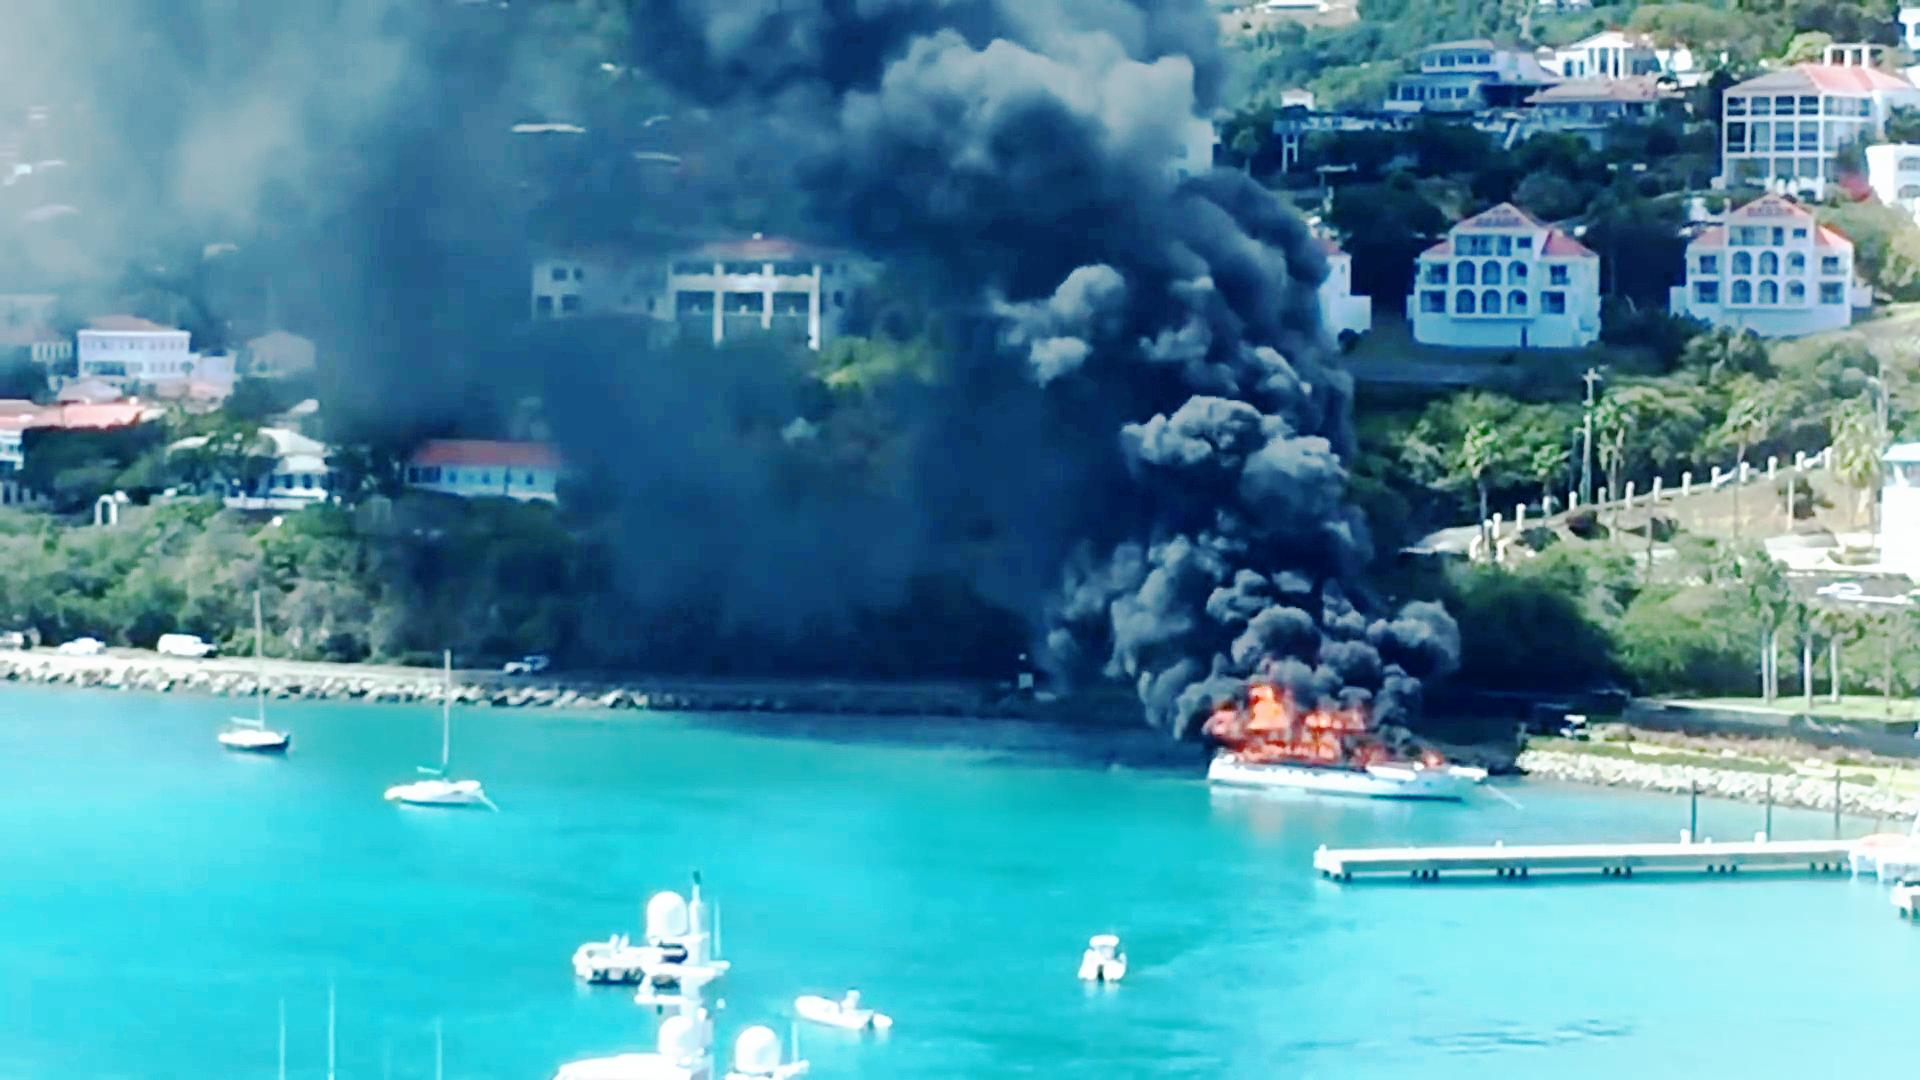smoke: (1133, 368, 1451, 708)
